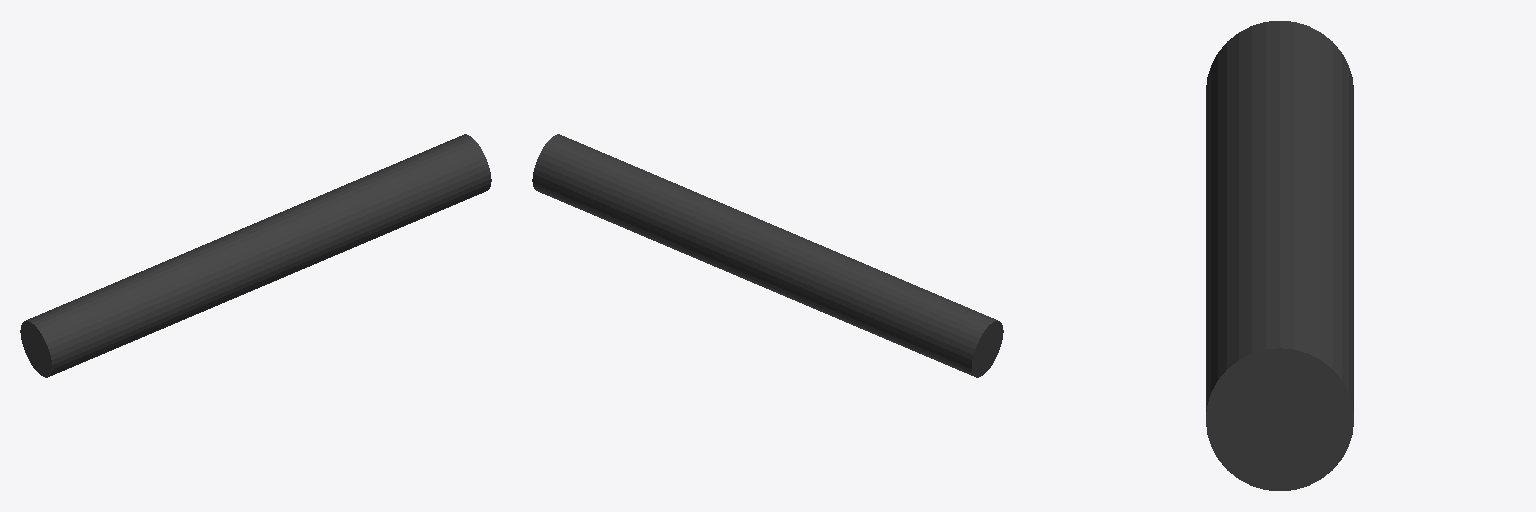
The robot description file, URDF, robot "hand":
<?xml version="1.0" ?>
<!-- =================================================================================== -->
<!-- |    This document was autogenerated by xacro from hand.urdf.xacro                | -->
<!-- |    EDITING THIS FILE BY HAND IS NOT RECOMMENDED                                 | -->
<!-- =================================================================================== -->
<robot name="hand">
  <link name="panda_hand">
    <visual>
      <geometry>
        <mesh filename="package://franka_description/meshes/visual/hand.dae"/>
      </geometry>
    </visual>
    <collision>
      <geometry>
        <mesh filename="package://franka_description/meshes/collision/hand.stl"/>
      </geometry>
    </collision>
  </link>
  <link name="panda_pan">
    <visual>
      <origin rpy="0 0 0" xyz="0 0 0"/>
      <geometry>
        <mesh filename="pan_tefal.obj"/>
      </geometry>
    </visual>
    <visual name="handle">
      <geometry>
        <cylinder length="0.185" radius="0.011"/>
      </geometry>
      <origin rpy="0 1.4 0" xyz="0.22 0 0.07"/>
      <material name="stainless">
        <color rgba="0.3 0.3 .3 1"/>
      </material>
    </visual>
    <collision name="handle">
      <geometry>
        <cylinder length="0.185" radius="0.011"/>
      </geometry>
      <origin rpy="0 1.4 0" xyz="0.22 0 0.07"/>
    </collision>
    <collision name="bottom">
      <geometry>
        <cylinder length="0.01" radius="0.12"/>
      </geometry>
      <origin rpy="0 0 0" xyz="0 0 0.005"/>
    </collision>
    <collision name="collision01">
      <geometry>
        <mesh filename="pan_tefal-collision01.obj"/>
      </geometry>
      <origin rpy="0 0 0" xyz="0 0 0"/>
    </collision>
    <collision name="collision02">
      <geometry>
        <mesh filename="pan_tefal-collision02.obj"/>
      </geometry>
      <origin rpy="0 0 0" xyz="0 0 0"/>
    </collision>
    <collision name="collision03">
      <geometry>
        <mesh filename="pan_tefal-collision03.obj"/>
      </geometry>
      <origin rpy="0 0 0" xyz="0 0 0"/>
    </collision>
    <collision name="collision04">
      <geometry>
        <mesh filename="pan_tefal-collision04.obj"/>
      </geometry>
      <origin rpy="0 0 0" xyz="0 0 0"/>
    </collision>
    <collision name="collision05">
      <geometry>
        <mesh filename="pan_tefal-collision05.obj"/>
      </geometry>
      <origin rpy="0 0 0" xyz="0 0 0"/>
    </collision>
    <collision name="collision06">
      <geometry>
        <mesh filename="pan_tefal-collision06.obj"/>
      </geometry>
      <origin rpy="0 0 0" xyz="0 0 0"/>
    </collision>
    <inertial>
      <mass value="2."/>
      <!-- mr^2 = 0.5*0.12^2 = 0.0072 for Z axis, lighter along other axis -->
      <inertia ixx="0.005" iyy="0.005" izz="0.0072"/>
    </inertial>
  </link>
  <joint name="panda_pan" type="fixed">
    <parent link="panda_hand"/>
    <child link="panda_pan"/>
    <origin rpy="0 0 0" xyz="0 0 0.0584"/>
  </joint>
</robot>


--- Render facts (derived) ---
3 views of the same robot in one strip: view 1: azimuth 30°, elevation 25°; view 2: azimuth 150°, elevation 25°; view 3: azimuth 270°, elevation 25° (orthographic).
Model hand with 2 links and 1 joints (1 fixed), rooted at panda_hand, posed every joint at zero.
Visible links, largest first — view 1: panda_pan; view 2: panda_pan; view 3: panda_pan.
Boxes of the visible links, x1,y1,x2,y2 form: panda_pan: (20, 134, 491, 377); panda_pan: (532, 134, 1003, 377); panda_pan: (1206, 21, 1353, 490).
Size in the robot's own frame: 0.186 by 0.022 by 0.0531 metres.
Meshes: 2 distinct files referenced, 0 mesh visuals loaded (none loaded); not drawn: 1 (reference not matched to a file when rendering), 1 (file found but could not be loaded).